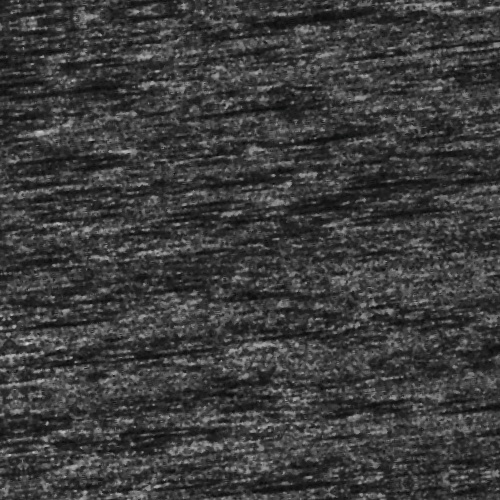object: (389, 19, 494, 28), (0, 194, 76, 205), (253, 173, 336, 182), (290, 483, 353, 490), (183, 338, 266, 343), (144, 66, 185, 73), (0, 325, 28, 330)
shadow: (311, 19, 441, 28), (184, 173, 294, 182), (181, 483, 321, 490), (38, 66, 165, 73), (70, 338, 225, 343), (0, 194, 29, 205)
